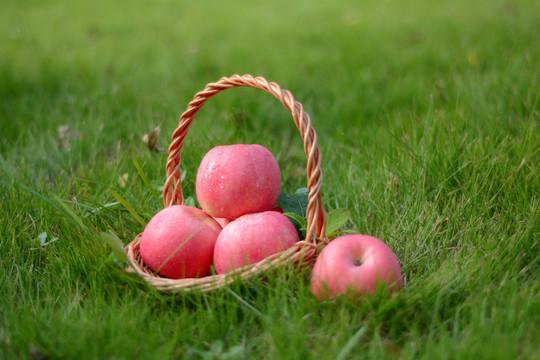apple: (195, 141, 282, 221), (131, 204, 220, 280), (310, 232, 402, 302), (213, 211, 298, 277)
